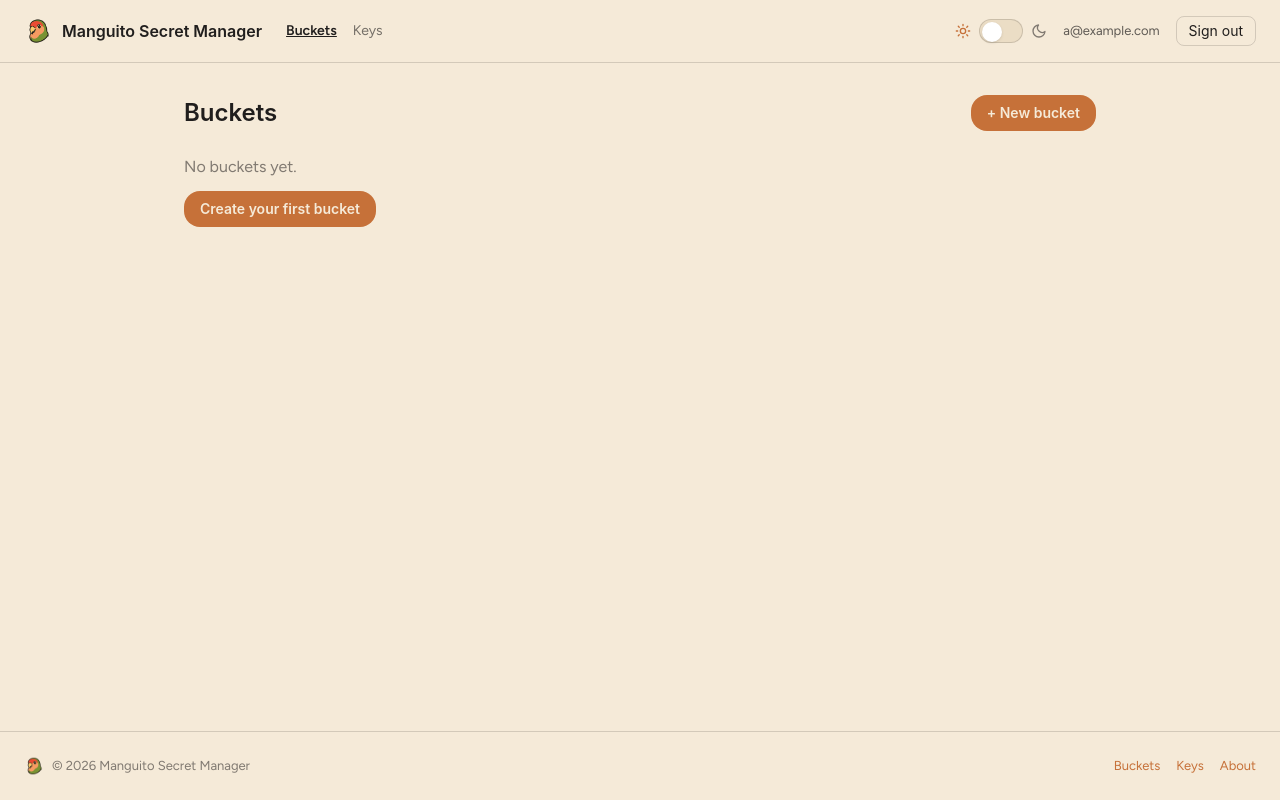
Test case: walks from the bucket list to the keys page through the nav bar
Expected: the heading "Buckets" is shown, [184,97,277,129]
Click the link "Keys" in the row of "a@example.com".
click(368, 31)  # box [353,21,383,41]
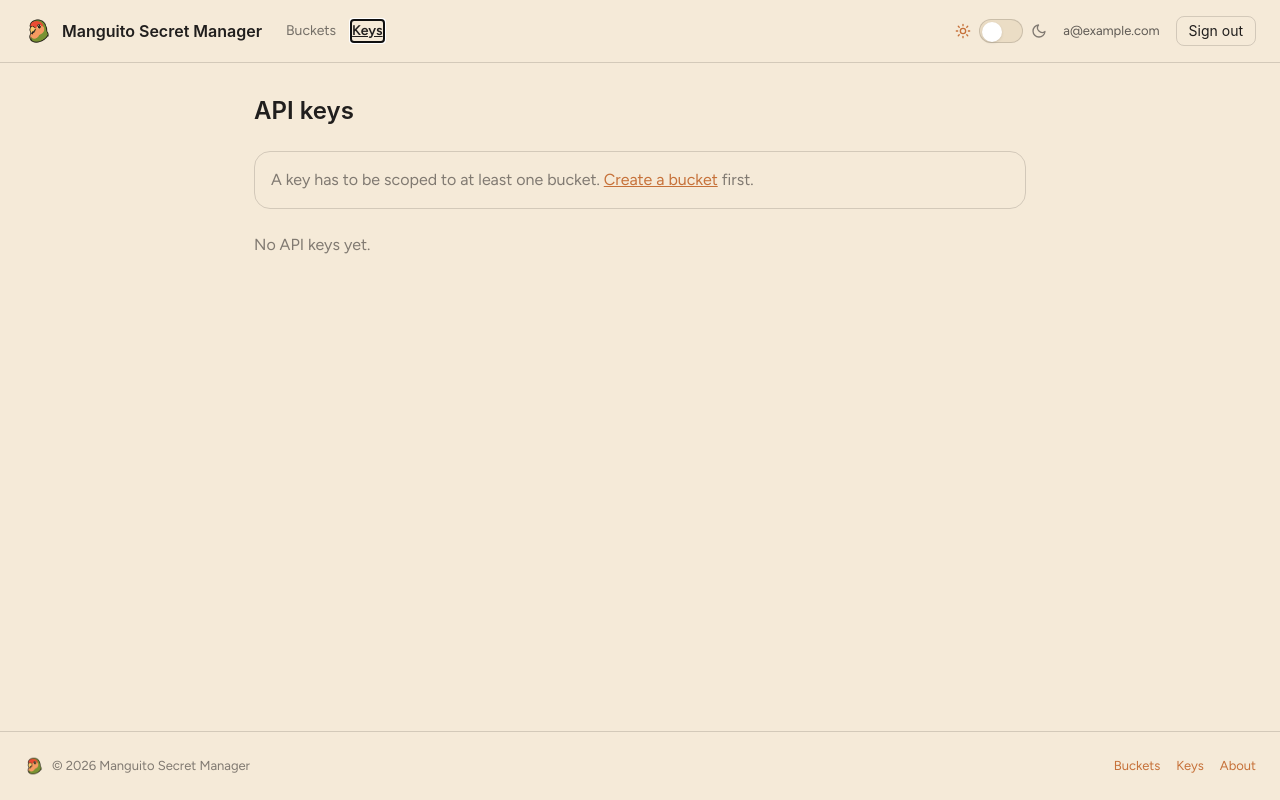
Now the heading "API keys" is shown, box [254,95,354,127]
